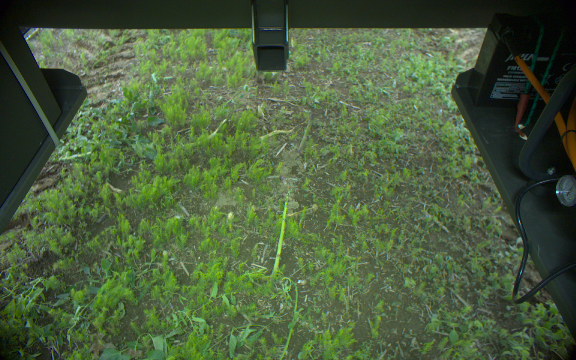aspa: (268, 187, 293, 279), (298, 109, 316, 154)
